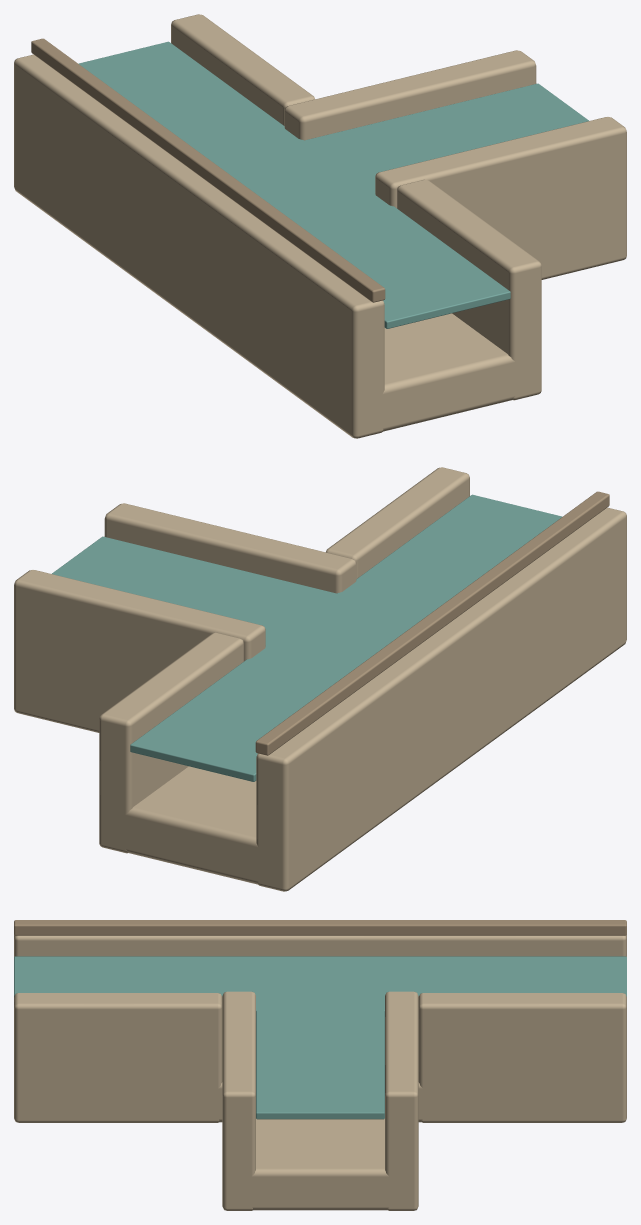
Rendered from coastal-saltworks-and-trade-port-coastal-saltworks-and-29d770c7__31369.glb.
3 views of the same model, one above another, from view 1: azimuth 30°, elevation 25°; view 2: azimuth 150°, elevation 25°; view 3: azimuth 270°, elevation 25° (orthographic). The views are drawn at different scales.
Visible parts, largest first — view 1: coastal-saltworks-and-trade-port-channel-junction; view 2: coastal-saltworks-and-trade-port-channel-junction; view 3: coastal-saltworks-and-trade-port-channel-junction.
Boxes of the visible parts, left/top/right/bottom form: coastal-saltworks-and-trade-port-channel-junction: left=14, top=14, right=626, bottom=438; coastal-saltworks-and-trade-port-channel-junction: left=14, top=467, right=626, bottom=891; coastal-saltworks-and-trade-port-channel-junction: left=14, top=920, right=626, bottom=1210.
Size of the model in its own units: 1.32 by 0.47 by 2.
